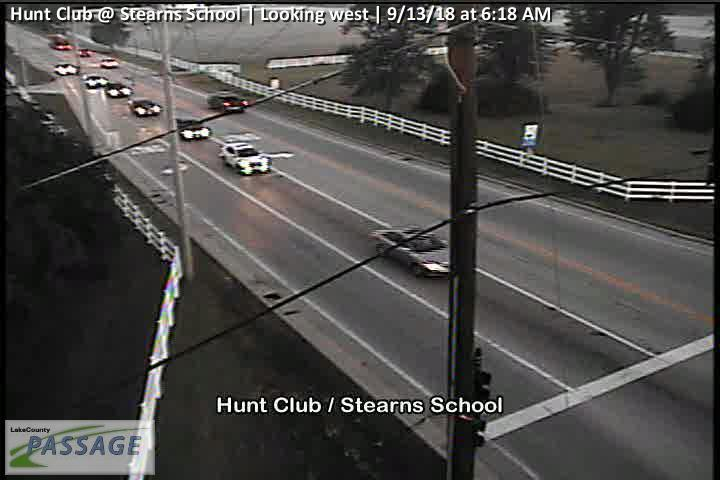Sedan: (367, 225, 450, 281), (219, 143, 271, 176), (208, 92, 248, 113), (176, 118, 210, 141), (130, 100, 162, 117), (104, 81, 133, 98), (82, 75, 107, 89), (53, 63, 80, 75), (99, 57, 120, 68)
